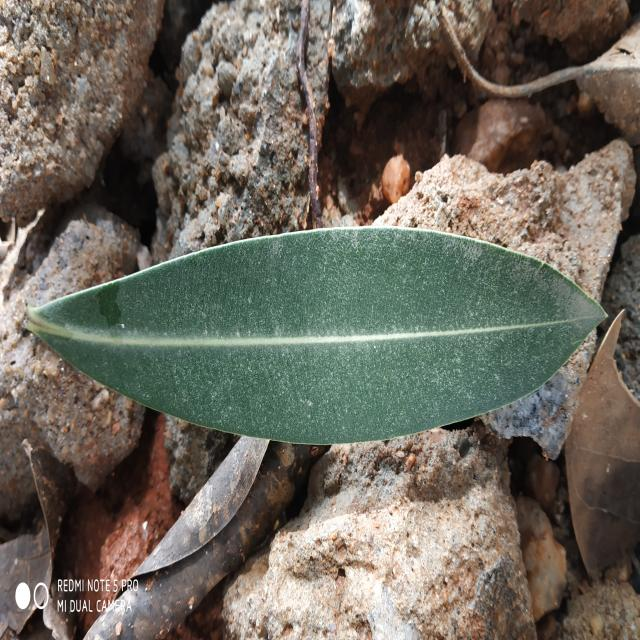ganigale: (28, 227, 604, 444)
